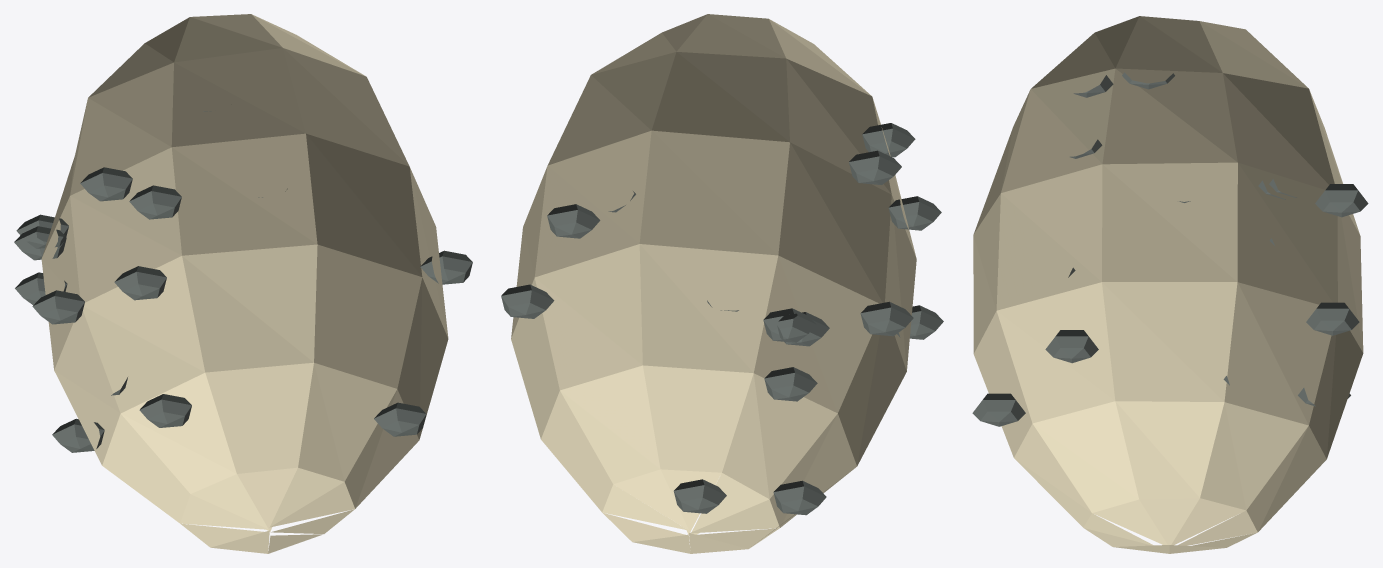
Rendered from egg.glb.
The picture shows the model from 3 angles, left to right: view 1: azimuth 30°, elevation 25°; view 2: azimuth 150°, elevation 25°; view 3: azimuth 270°, elevation 25°; orthographic projection.
Visible parts, largest first — view 1: dragon-egg; view 2: dragon-egg; view 3: dragon-egg.
Boxes of the visible parts, box(x1,y1,x2,y2) form: dragon-egg: box(14, 14, 472, 553); dragon-egg: box(501, 14, 943, 553); dragon-egg: box(972, 16, 1368, 553).
Size of the model in its own units: 0.3515 by 0.4635 by 0.3236.
